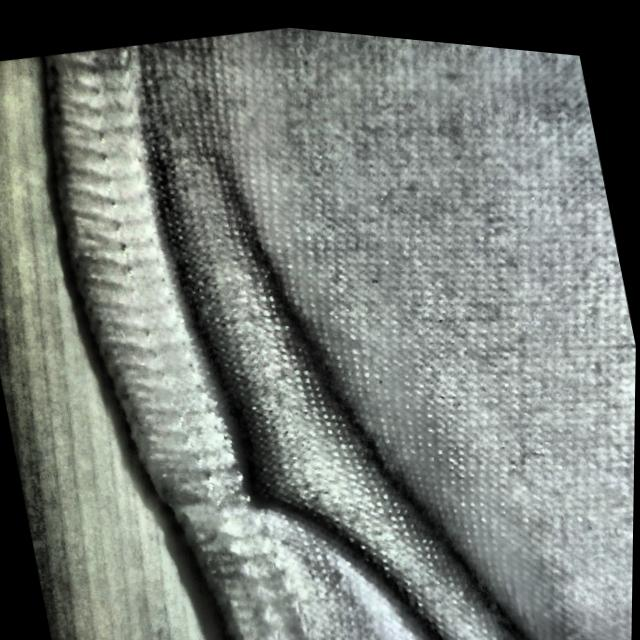seam: (119, 314, 421, 602)
